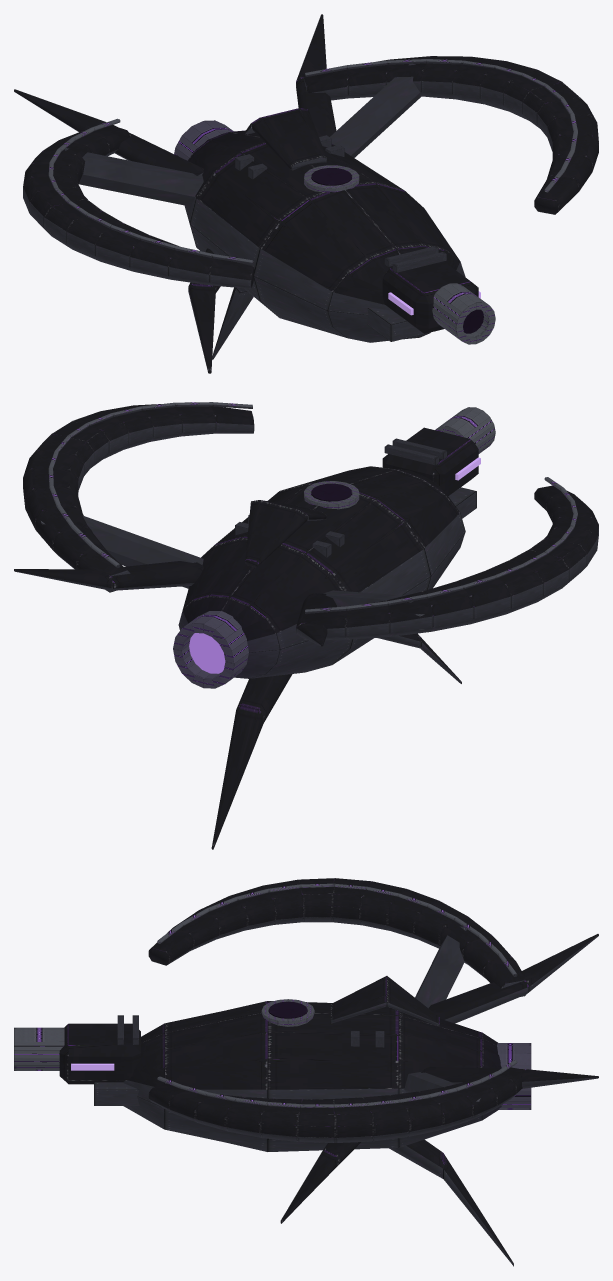
The model's file is pioneer-eris-l08-laser.glb.
The picture shows the model from 3 angles, top to bottom: view 1: azimuth 30°, elevation 25°; view 2: azimuth 150°, elevation 25°; view 3: azimuth 270°, elevation 25°; orthographic projection. The views are drawn at different scales.
Visible parts, largest first — view 1: Drone; view 2: Drone; view 3: Drone.
Boxes of the visible parts, <box> form: Drone: <box>14,14,598,373</box>; Drone: <box>14,402,598,849</box>; Drone: <box>14,878,598,1266</box>.
Size of the model in its own units: 1.63 by 0.878 by 1.66.
3 materials, 3 textured.
